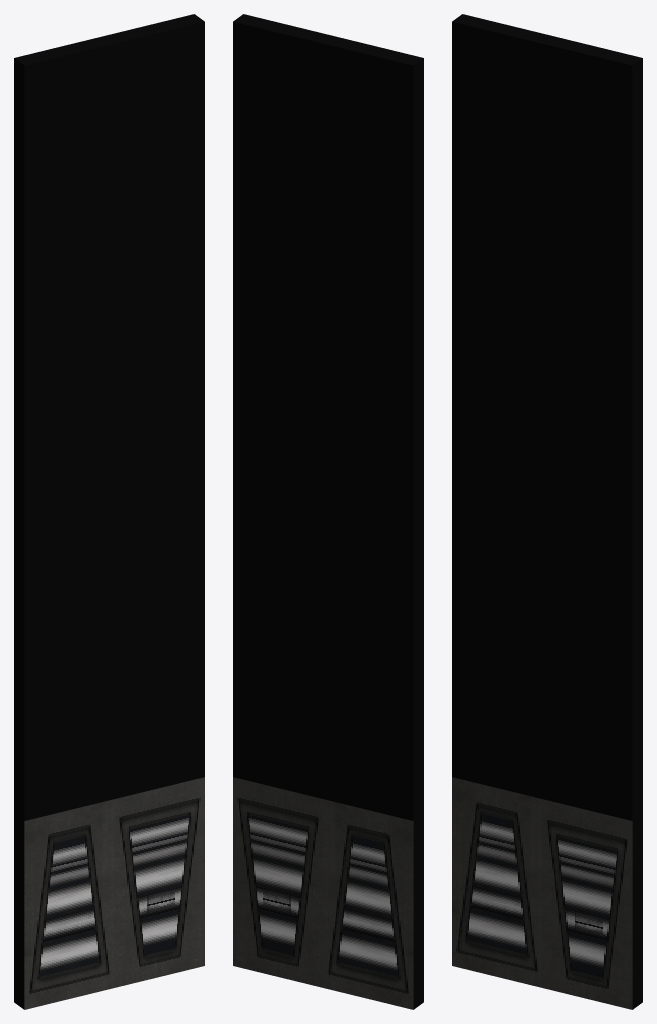
File: Door1.glb
3 renders of one model, left to right at view 1: azimuth 30°, elevation 25°; view 2: azimuth 150°, elevation 25°; view 3: azimuth 330°, elevation 25°, orthographic.
Parts seen in each view (by area): view 1: Cube.009, Cube.008; view 2: Cube.009, Cube.008; view 3: Cube.009, Cube.008.
Boxes of the visible parts, x1=… form: Cube.009: x1=92, y1=14, x2=204, y2=984; Cube.008: x1=14, y1=39, x2=128, y2=1009; Cube.009: x1=233, y1=14, x2=350, y2=984; Cube.008: x1=309, y1=40, x2=423, y2=1009; Cube.009: x1=524, y1=33, x2=642, y2=1009; Cube.008: x1=452, y1=14, x2=555, y2=991.
Size of the model in its own units: 2 by 10 by 0.2.
2 materials, 1 textured.
